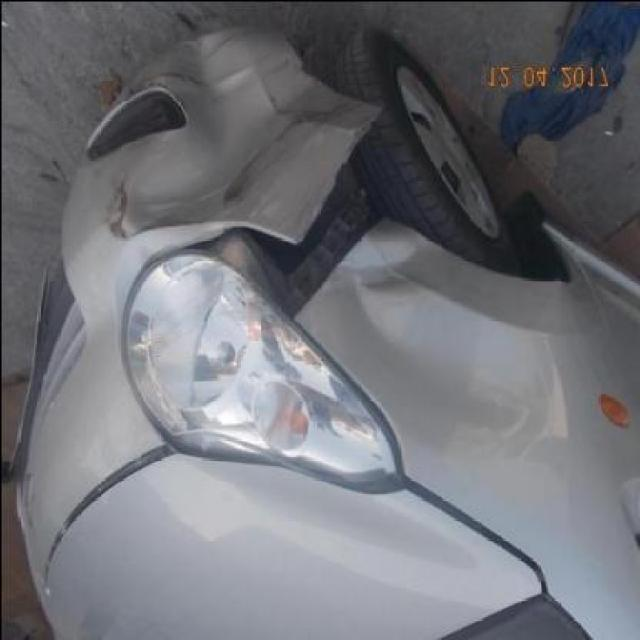damage: (106, 26, 383, 235), (308, 224, 531, 423), (194, 104, 393, 313)
